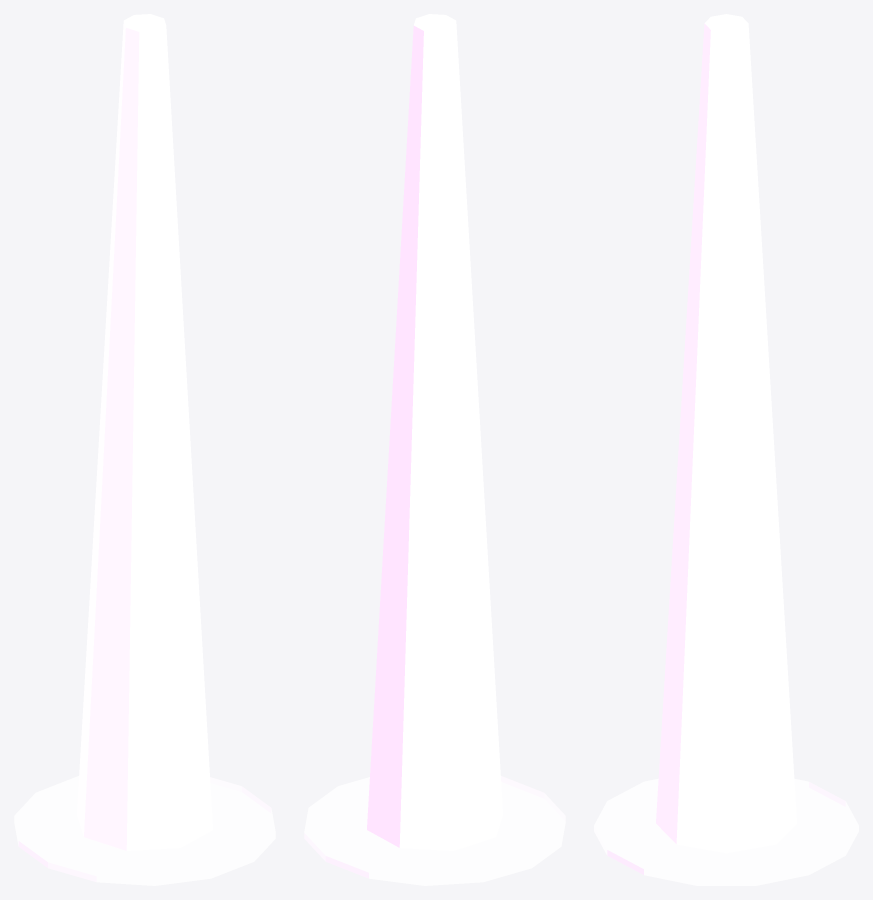
File: fx_pickup_pillar_violet.glb
3 views of the same model, side by side, from view 1: azimuth 30°, elevation 25°; view 2: azimuth 150°, elevation 25°; view 3: azimuth 270°, elevation 25° (orthographic).
Parts seen in each view (by area): view 1: fx_pickup_pillar_violet; view 2: fx_pickup_pillar_violet; view 3: fx_pickup_pillar_violet.
Boxes of the visible parts, x1=… form: fx_pickup_pillar_violet: x1=14, y1=14, x2=275, y2=885; fx_pickup_pillar_violet: x1=304, y1=14, x2=565, y2=885; fx_pickup_pillar_violet: x1=594, y1=14, x2=858, y2=885.
Bounding box in the file's own units: 0.585 × 2.02 × 0.6.
